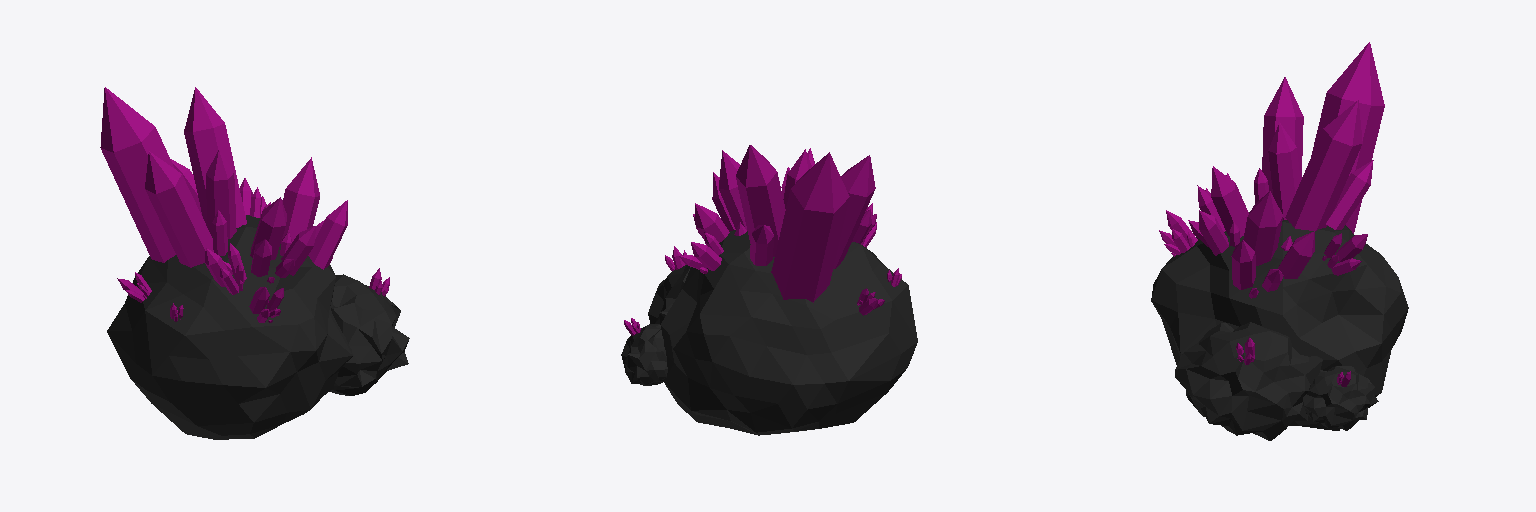
File: ore_1_mid.obj
The picture shows the model from 3 angles: view 1: azimuth 30°, elevation 25°; view 2: azimuth 150°, elevation 25°; view 3: azimuth 270°, elevation 25°; orthographic projection.
Parts seen in each view (by area): view 1: Icosphere; view 2: Icosphere; view 3: Icosphere.
Part boxes in pixels (x1,y1,x2,y2): Icosphere: (100,87,409,439); Icosphere: (621,145,917,435); Icosphere: (1151,42,1408,440).
Bounding box in the file's own units: 8.37 × 10.27 × 7.37.